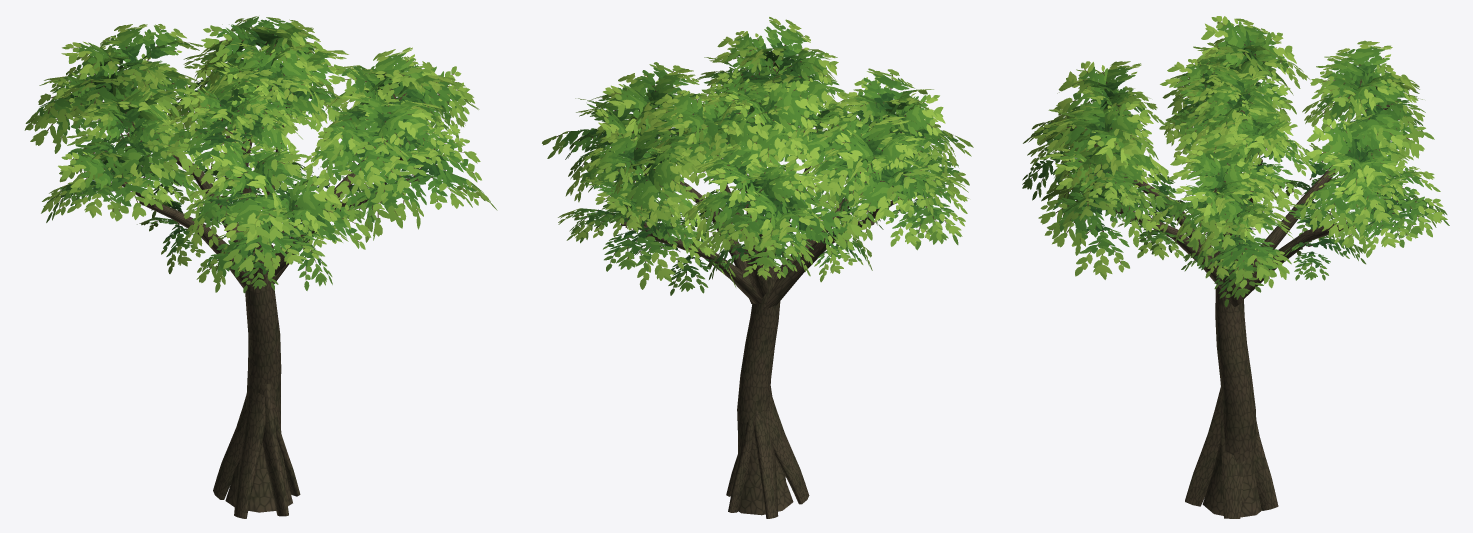
The picture shows the model from 3 angles, left to right: view 1: azimuth 30°, elevation 25°; view 2: azimuth 150°, elevation 25°; view 3: azimuth 270°, elevation 25°; orthographic projection. The views are drawn at different scales.
Visible parts, largest first — view 1: Mesh_CanopyLeaves, Mesh_CanopyBark; view 2: Mesh_CanopyLeaves, Mesh_CanopyBark; view 3: Mesh_CanopyLeaves, Mesh_CanopyBark.
Boxes of the visible parts, x1,y1,x2,y2 form: Mesh_CanopyLeaves: [24, 16, 497, 293]; Mesh_CanopyBark: [102, 87, 419, 518]; Mesh_CanopyLeaves: [542, 17, 973, 295]; Mesh_CanopyBark: [612, 105, 901, 518]; Mesh_CanopyLeaves: [1022, 16, 1449, 307]; Mesh_CanopyBark: [1078, 104, 1389, 518].
Bounding box in the file's own units: 13.19 × 12.42 × 11.6.
Materials: 2 (2 with a texture image).
